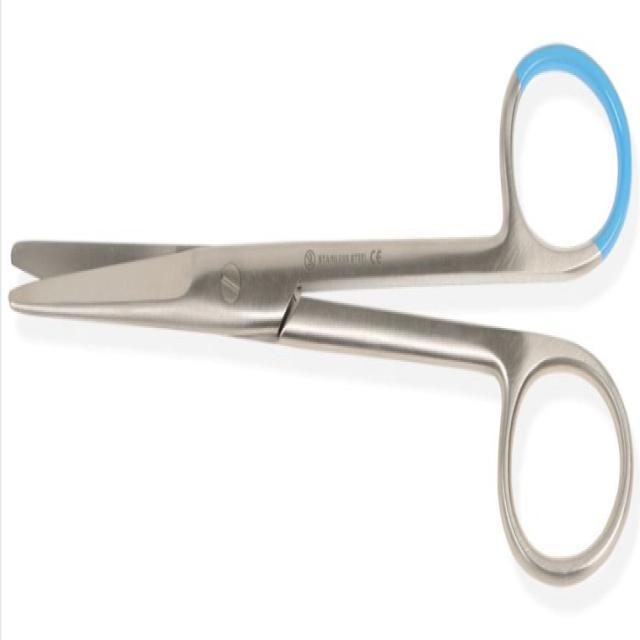Straight Mayo: (8, 41, 634, 600)
